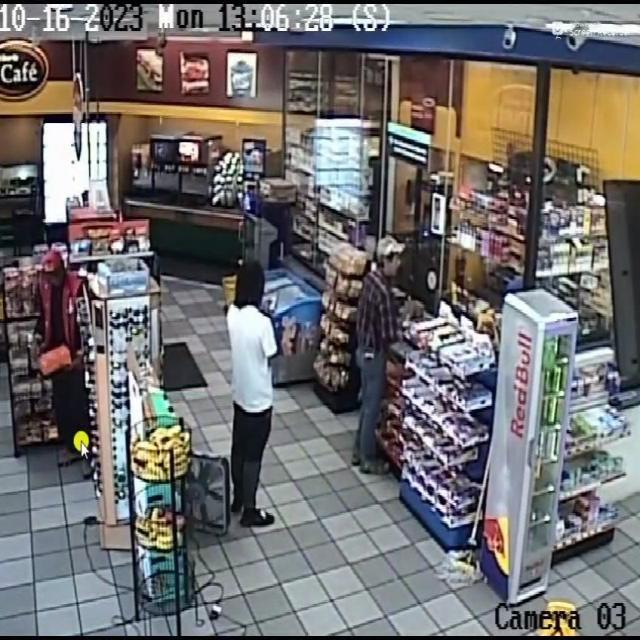normal: (30, 242, 96, 480)
